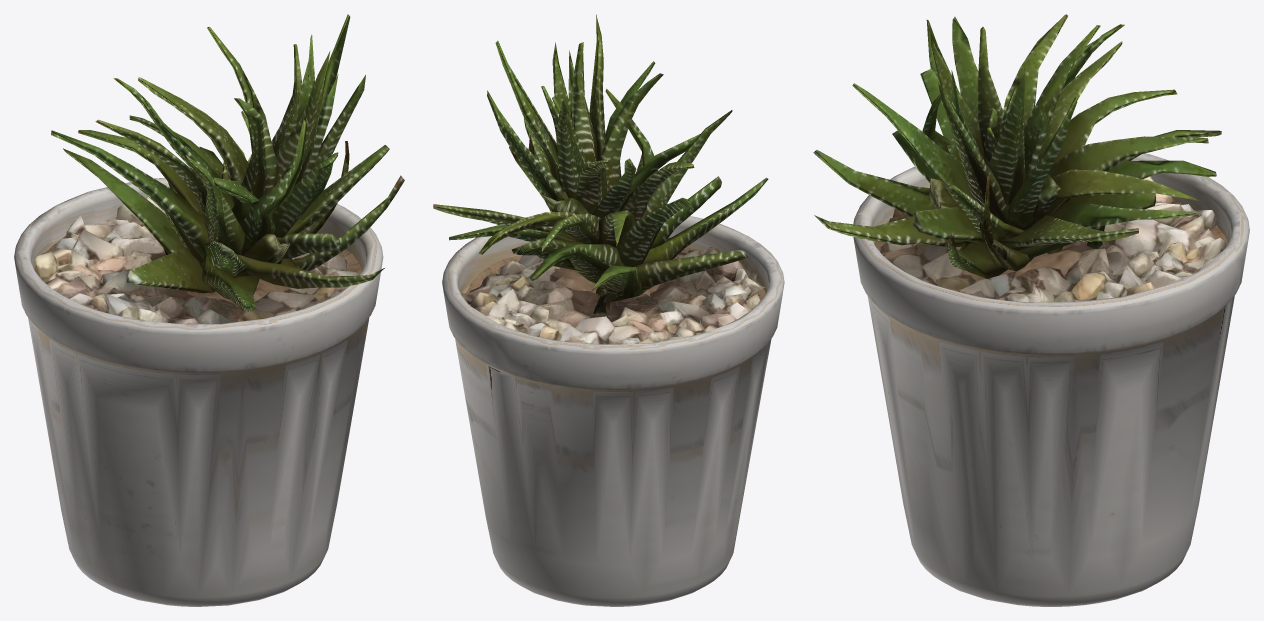
The model's file is potted_plant_04.glb.
3 renders of one model, left to right at view 1: azimuth 30°, elevation 25°; view 2: azimuth 150°, elevation 25°; view 3: azimuth 270°, elevation 25°, orthographic. The views are drawn at different scales.
Parts seen in each view (by area): view 1: potted_plant_04_pot, potted_plant_04_plant, potted_plant_04_ground, potted_plant_04_dirt; view 2: potted_plant_04_pot, potted_plant_04_plant, potted_plant_04_ground, potted_plant_04_dirt; view 3: potted_plant_04_pot, potted_plant_04_plant, potted_plant_04_ground, potted_plant_04_dirt.
Part boxes in pixels (left/top/right/bottom): potted_plant_04_pot: left=14, top=178, right=383, bottom=606; potted_plant_04_plant: left=51, top=14, right=404, bottom=311; potted_plant_04_ground: left=34, top=196, right=357, bottom=323; potted_plant_04_dirt: left=34, top=236, right=362, bottom=306; potted_plant_04_pot: left=442, top=216, right=784, bottom=606; potted_plant_04_plant: left=433, top=14, right=768, bottom=313; potted_plant_04_ground: left=462, top=247, right=765, bottom=344; potted_plant_04_dirt: left=461, top=247, right=765, bottom=307; potted_plant_04_pot: left=853, top=144, right=1249, bottom=606; potted_plant_04_plant: left=813, top=14, right=1221, bottom=278; potted_plant_04_ground: left=880, top=176, right=1226, bottom=302; potted_plant_04_dirt: left=874, top=200, right=1227, bottom=297.
Bounding box in the file's own units: 0.1679 × 0.2672 × 0.1845.
Materials: 1 (1 with a texture image).
